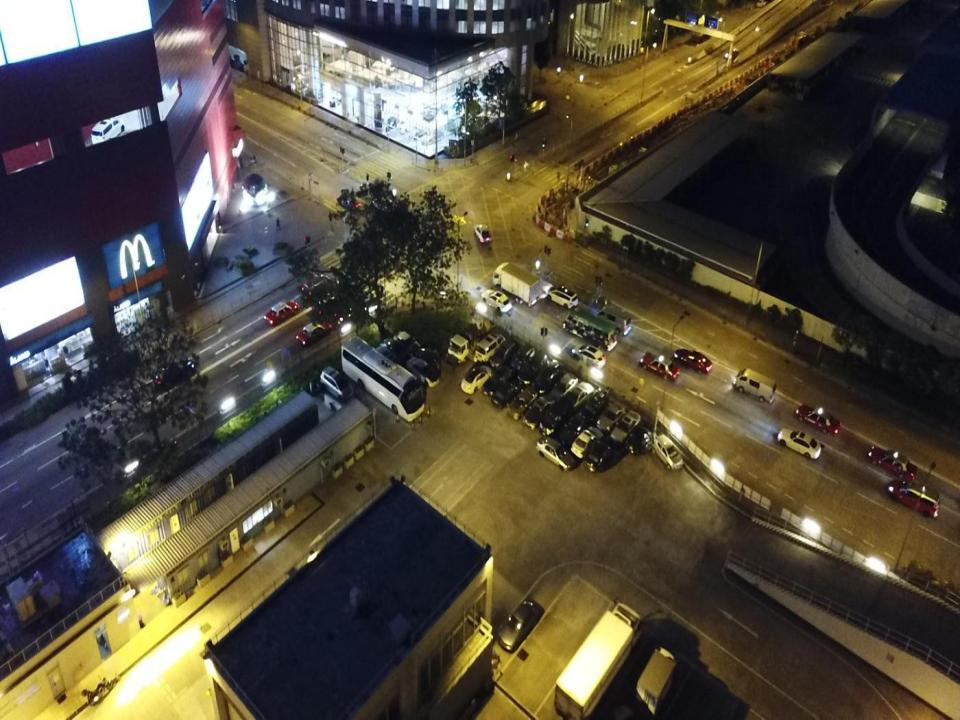bus: (341, 335, 425, 422), (564, 309, 618, 351)
car: (497, 596, 539, 650), (887, 480, 940, 520), (869, 445, 917, 483), (796, 403, 841, 435), (778, 426, 820, 460), (536, 436, 576, 471), (320, 366, 355, 402), (154, 359, 196, 388), (640, 351, 680, 380), (583, 438, 615, 473), (653, 434, 683, 471), (675, 347, 712, 376), (571, 426, 603, 458), (460, 364, 492, 395), (407, 357, 440, 387), (264, 299, 300, 326), (296, 319, 332, 346), (482, 366, 512, 398), (556, 411, 588, 441), (506, 388, 536, 419), (523, 396, 554, 426), (596, 401, 627, 431), (539, 406, 570, 436), (572, 344, 606, 371), (550, 371, 580, 401), (562, 380, 592, 410), (578, 391, 608, 421), (610, 412, 640, 442), (623, 425, 652, 454), (476, 334, 506, 362), (491, 382, 520, 408), (481, 288, 512, 312), (394, 330, 422, 354), (384, 338, 412, 361), (374, 346, 400, 368), (372, 197, 398, 215), (338, 193, 362, 211), (473, 224, 493, 245), (725, 48, 738, 60), (756, 0, 767, 8)
truck: (554, 602, 644, 719), (634, 644, 679, 716), (492, 260, 541, 307), (446, 320, 489, 364), (690, 20, 716, 42)
van: (732, 369, 778, 404), (595, 304, 632, 335), (533, 359, 563, 392), (518, 352, 548, 384), (509, 345, 537, 374), (546, 285, 579, 309), (302, 275, 332, 301), (490, 339, 515, 370)
